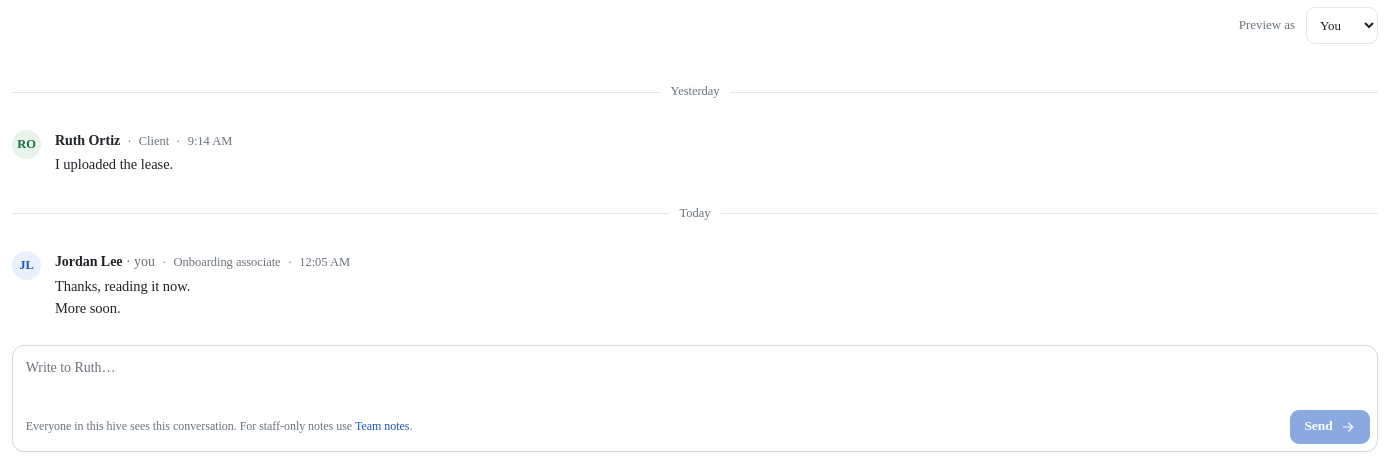
Test: HiveConversation › sends on Enter but not on Shift+Enter, and disables Send when empty
Later steps or results of the test are not shown.
Expected: the button "Send" is disabled, [1290,410,1370,444]
Type "Line one" into the text box named "Message".
click(695, 375); type("Line one")  # box [13,346,1377,404]
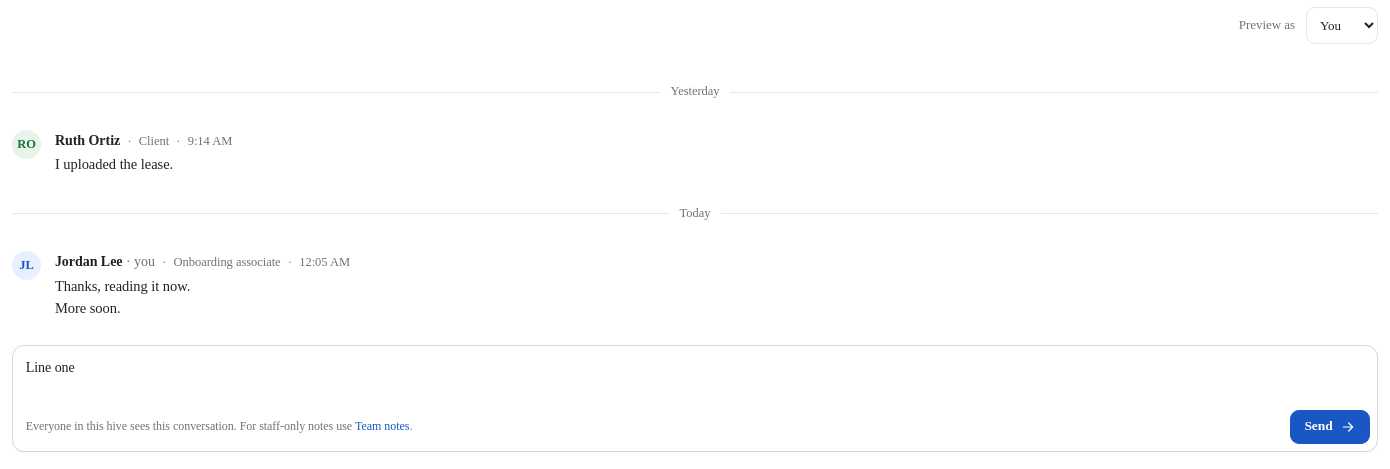
Expected: the button "Send" is enabled, [1290,410,1370,444]
